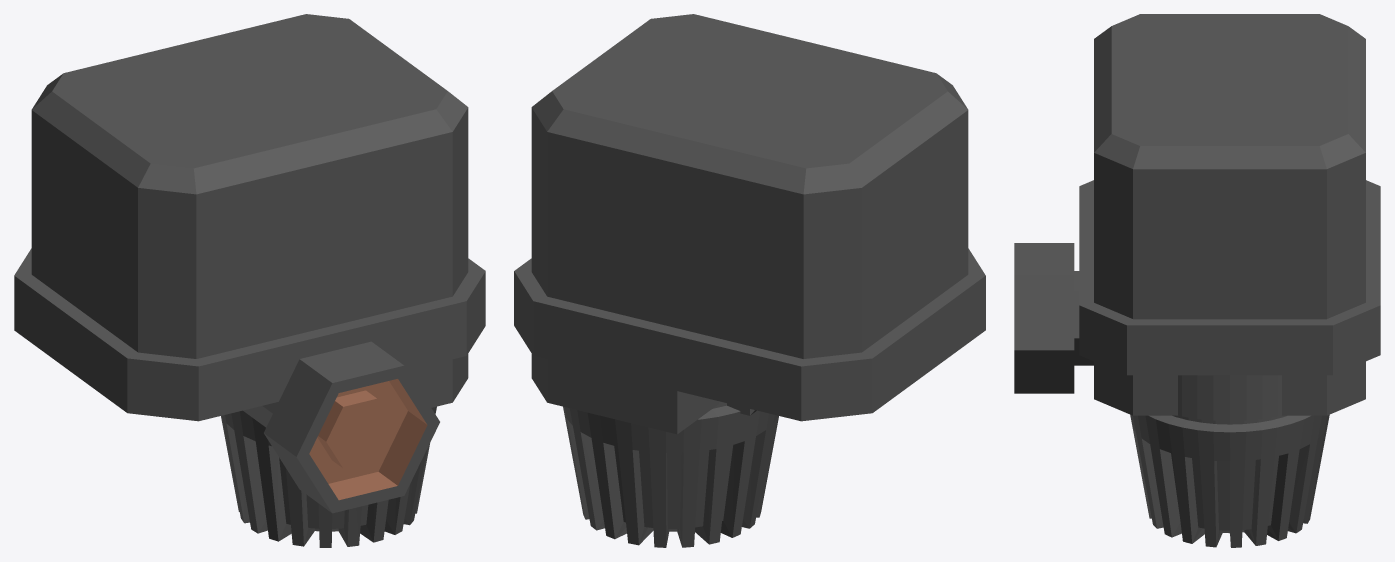
Rendered from ea7f3ed0-8413-4a1e-8481-a70564a2feda.glb.
The picture shows the model from 3 angles, left to right: view 1: azimuth 30°, elevation 25°; view 2: azimuth 150°, elevation 25°; view 3: azimuth 270°, elevation 25°; orthographic projection. The views are drawn at different scales.
Visible parts, largest first — view 1: Sump_Pump; view 2: Sump_Pump; view 3: Sump_Pump.
Part boxes in pixels (left/top/right/bottom): Sump_Pump: left=14, top=14, right=485, bottom=547; Sump_Pump: left=514, top=14, right=985, bottom=547; Sump_Pump: left=1014, top=14, right=1380, bottom=547.
Size of the model in its own units: 58.65 by 68.51 by 57.
1 material, 1 textured.
